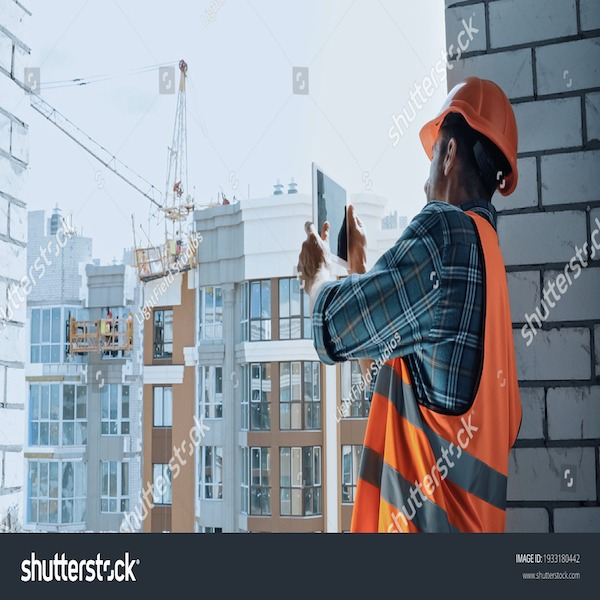helmet: (429, 78, 522, 147)
vest: (351, 218, 511, 525)
